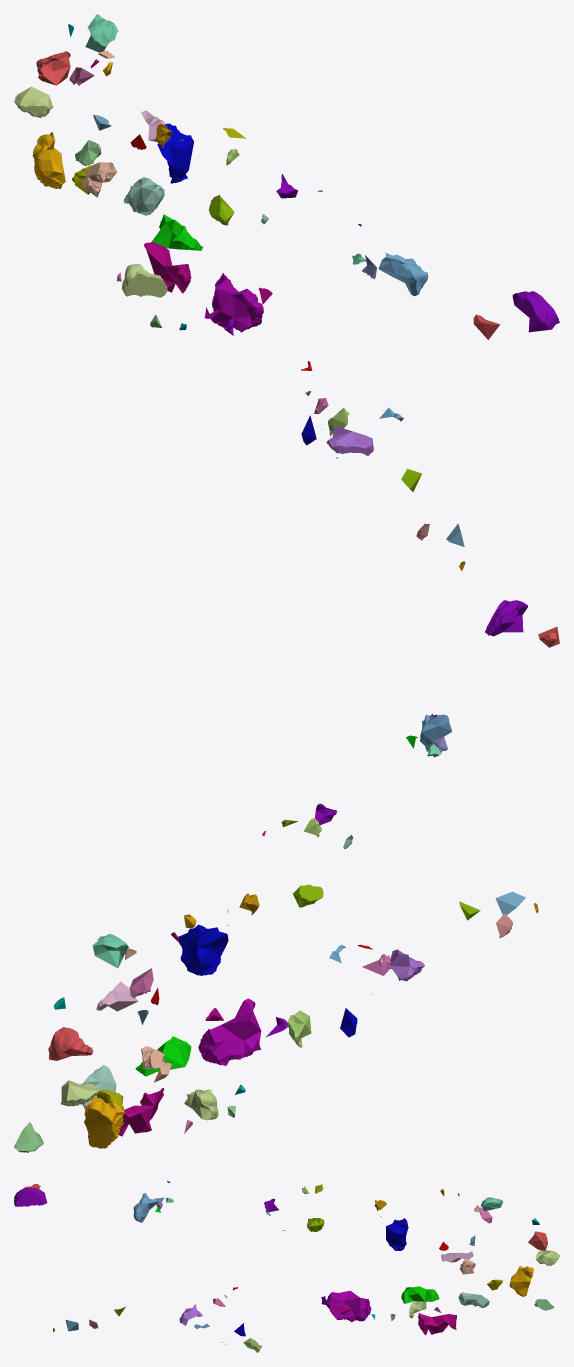
The model's file is fractured_73_55pcs_transformed.glb.
The picture shows the model from 3 angles, top to bottom: view 1: azimuth 30°, elevation 25°; view 2: azimuth 150°, elevation 25°; view 3: azimuth 270°, elevation 25°; orthographic projection. The views are drawn at different scales.
Parts seen in each view (by area): view 1: piece_2.obj, piece_0.obj, piece_18.obj, piece_26.obj, piece_5.obj, piece_7.obj, piece_4.obj, piece_12.obj, piece_16.obj, piece_8.obj, piece_1.obj, piece_13.obj (+2 smaller); view 2: piece_2.obj, piece_18.obj, piece_0.obj, piece_26.obj, piece_5.obj, piece_1.obj, piece_16.obj, piece_6.obj, piece_4.obj, piece_13.obj, piece_7.obj, piece_8.obj (+1 smaller); view 3: piece_2.obj, piece_26.obj, piece_18.obj, piece_5.obj, piece_0.obj, piece_16.obj, piece_7.obj, piece_12.obj, piece_13.obj, piece_1.obj, piece_14.obj, piece_8.obj (+1 smaller).
Part boxes in pixels (<box>): piece_2.obj: <box>204,273,263,332</box>; piece_0.obj: <box>32,132,65,188</box>; piece_18.obj: <box>157,123,193,183</box>; piece_26.obj: <box>144,241,191,293</box>; piece_5.obj: <box>512,291,559,332</box>; piece_7.obj: <box>378,252,428,296</box>; piece_4.obj: <box>121,264,167,297</box>; piece_12.obj: <box>123,176,164,215</box>; piece_16.obj: <box>152,214,203,250</box>; piece_8.obj: <box>326,426,373,455</box>; piece_1.obj: <box>36,51,70,85</box>; piece_13.obj: <box>14,86,53,117</box>; piece_2.obj: <box>198,998,261,1065</box>; piece_18.obj: <box>177,924,228,975</box>; piece_0.obj: <box>84,1096,124,1148</box>; piece_26.obj: <box>118,1088,164,1136</box>; piece_5.obj: <box>485,600,527,636</box>; piece_1.obj: <box>48,1027,93,1060</box>; piece_16.obj: <box>135,1036,191,1076</box>; piece_6.obj: <box>92,933,128,968</box>; piece_4.obj: <box>184,1089,218,1120</box>; piece_13.obj: <box>60,1080,100,1106</box>; piece_7.obj: <box>420,714,451,751</box>; piece_8.obj: <box>390,949,424,981</box>; piece_2.obj: <box>326,1290,371,1322</box>; piece_26.obj: <box>418,1312,456,1335</box>; piece_18.obj: <box>386,1218,408,1250</box>; piece_5.obj: <box>14,1187,47,1206</box>; piece_0.obj: <box>509,1266,533,1296</box>; piece_16.obj: <box>401,1286,439,1303</box>; piece_7.obj: <box>133,1193,159,1222</box>; piece_12.obj: <box>458,1292,489,1307</box>; piece_13.obj: <box>535,1250,559,1266</box>; piece_1.obj: <box>528,1231,547,1250</box>; piece_14.obj: <box>441,1251,473,1262</box>; piece_8.obj: <box>179,1303,202,1325</box>.
Bounding box in the file's own units: 1 × 3.05 × 9.23.
